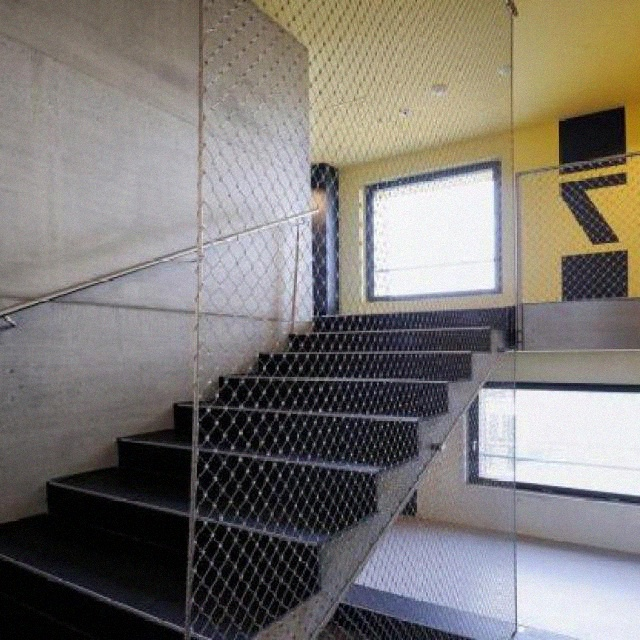stair: (2, 239, 522, 639)
